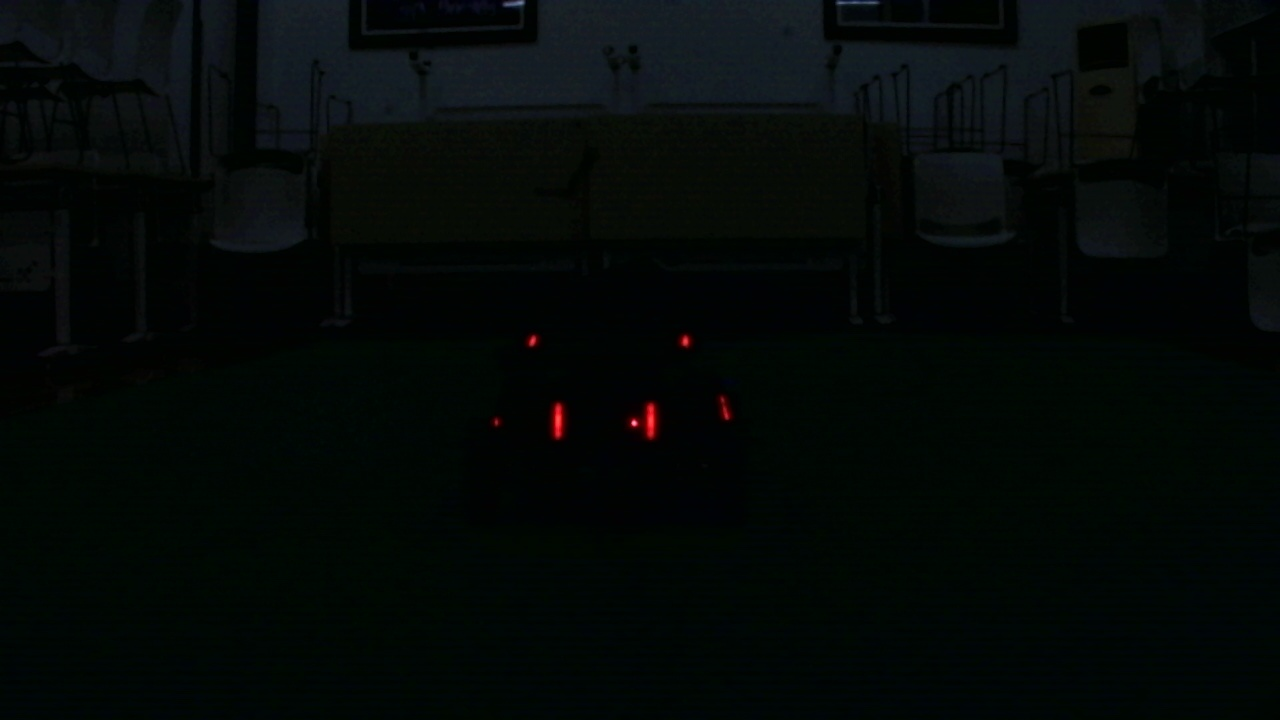lamp: (644, 398, 659, 442), (551, 399, 564, 439)
pair1: (552, 402, 657, 439)
